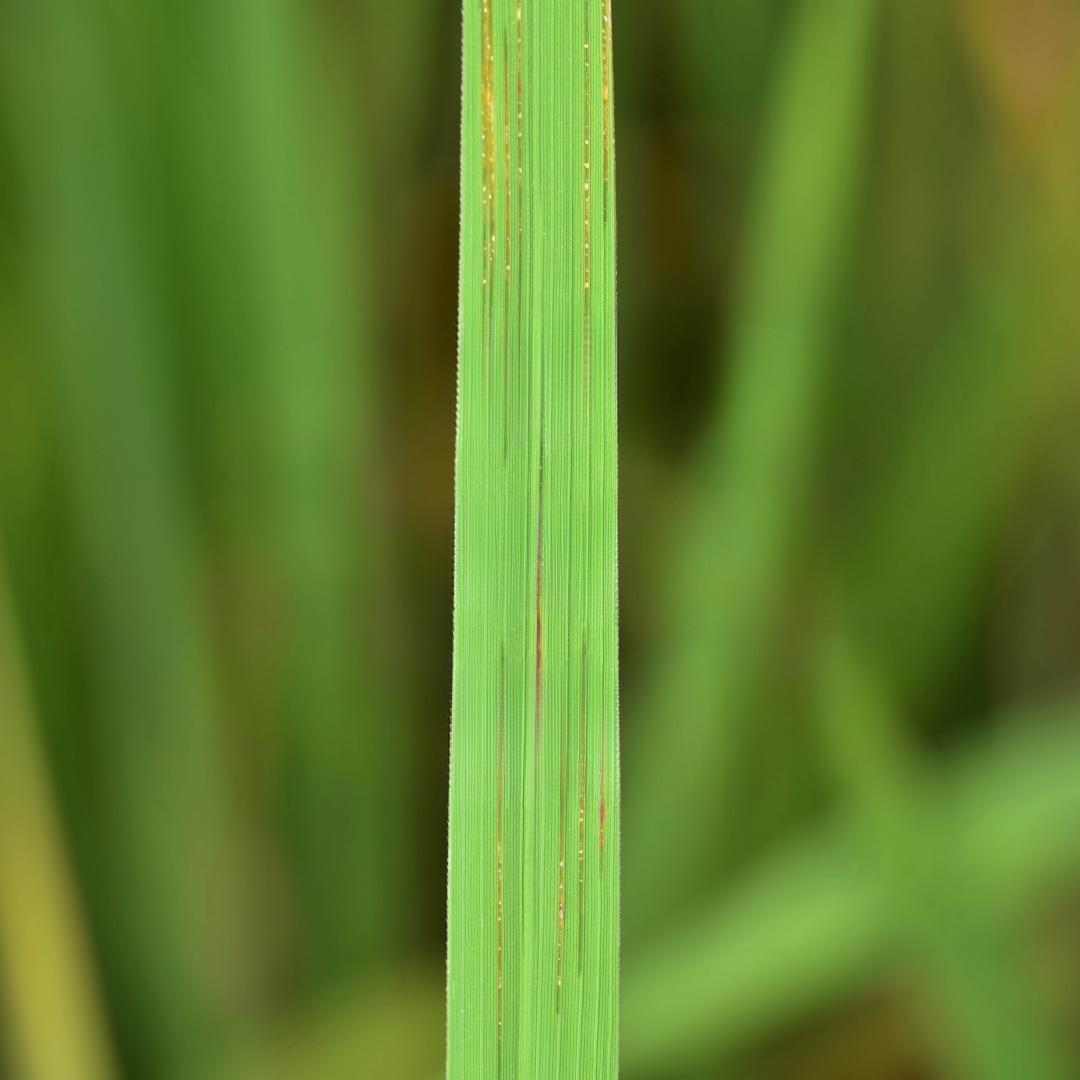BLS: (447, 0, 620, 1079), (480, 0, 494, 324), (535, 462, 545, 786), (577, 633, 586, 975), (496, 645, 503, 1079), (601, 0, 614, 229), (557, 772, 569, 1014), (583, 3, 590, 396), (504, 28, 510, 466), (516, 0, 522, 353), (600, 725, 604, 878)
LEAF: (447, 0, 620, 1079)
